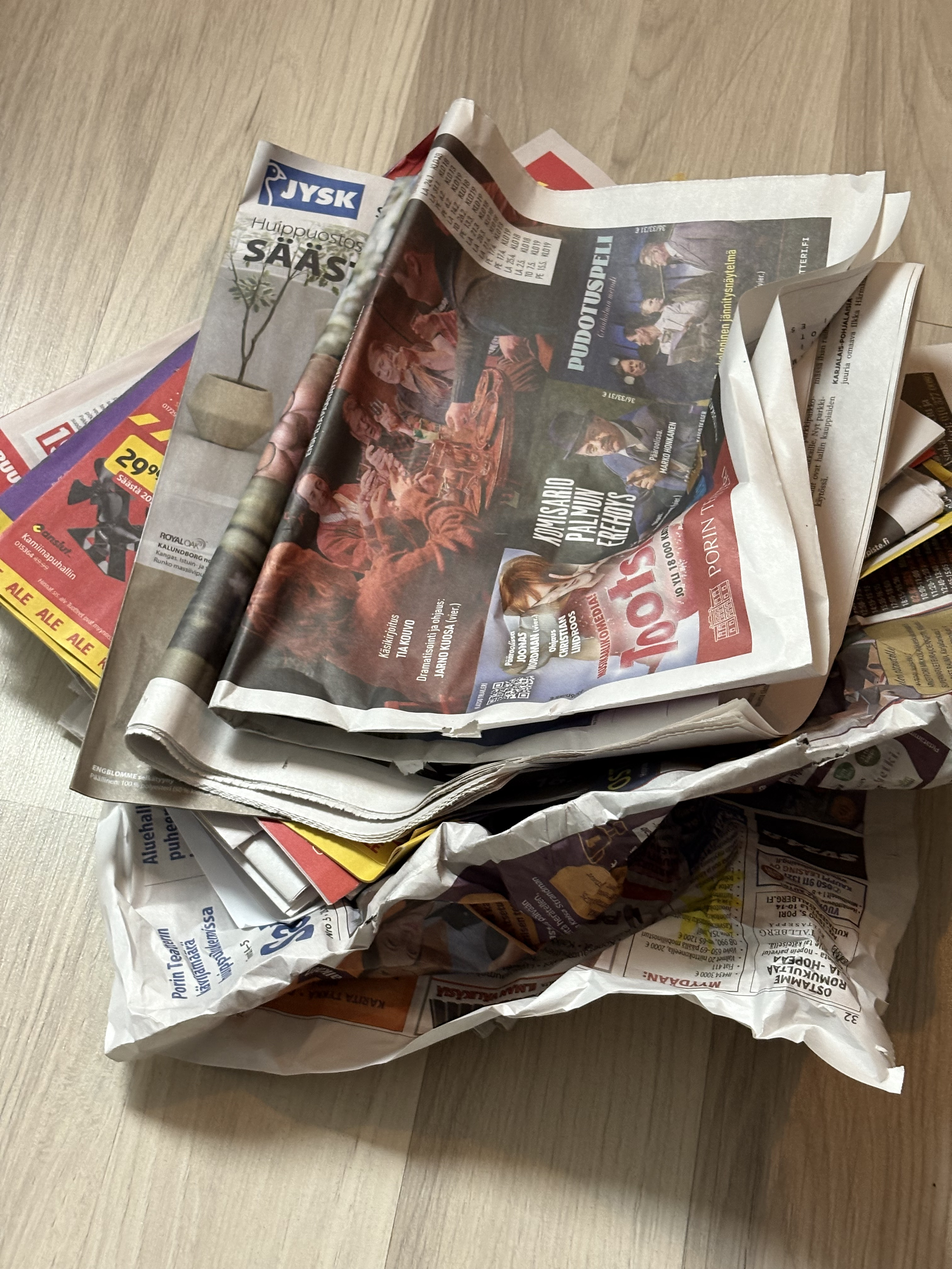paper: (4, 102, 946, 1096)
